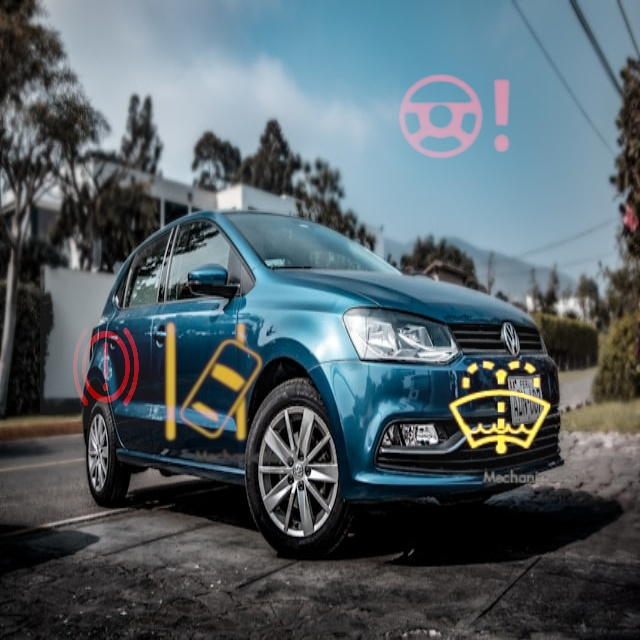symbol: (127, 298, 300, 471), (419, 327, 583, 491), (387, 50, 522, 185), (40, 298, 171, 429)
